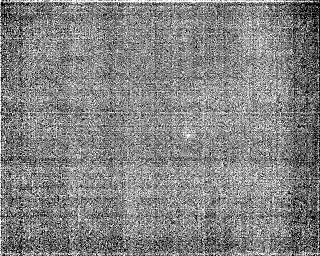AIRPLANE: (203, 145, 211, 155)
